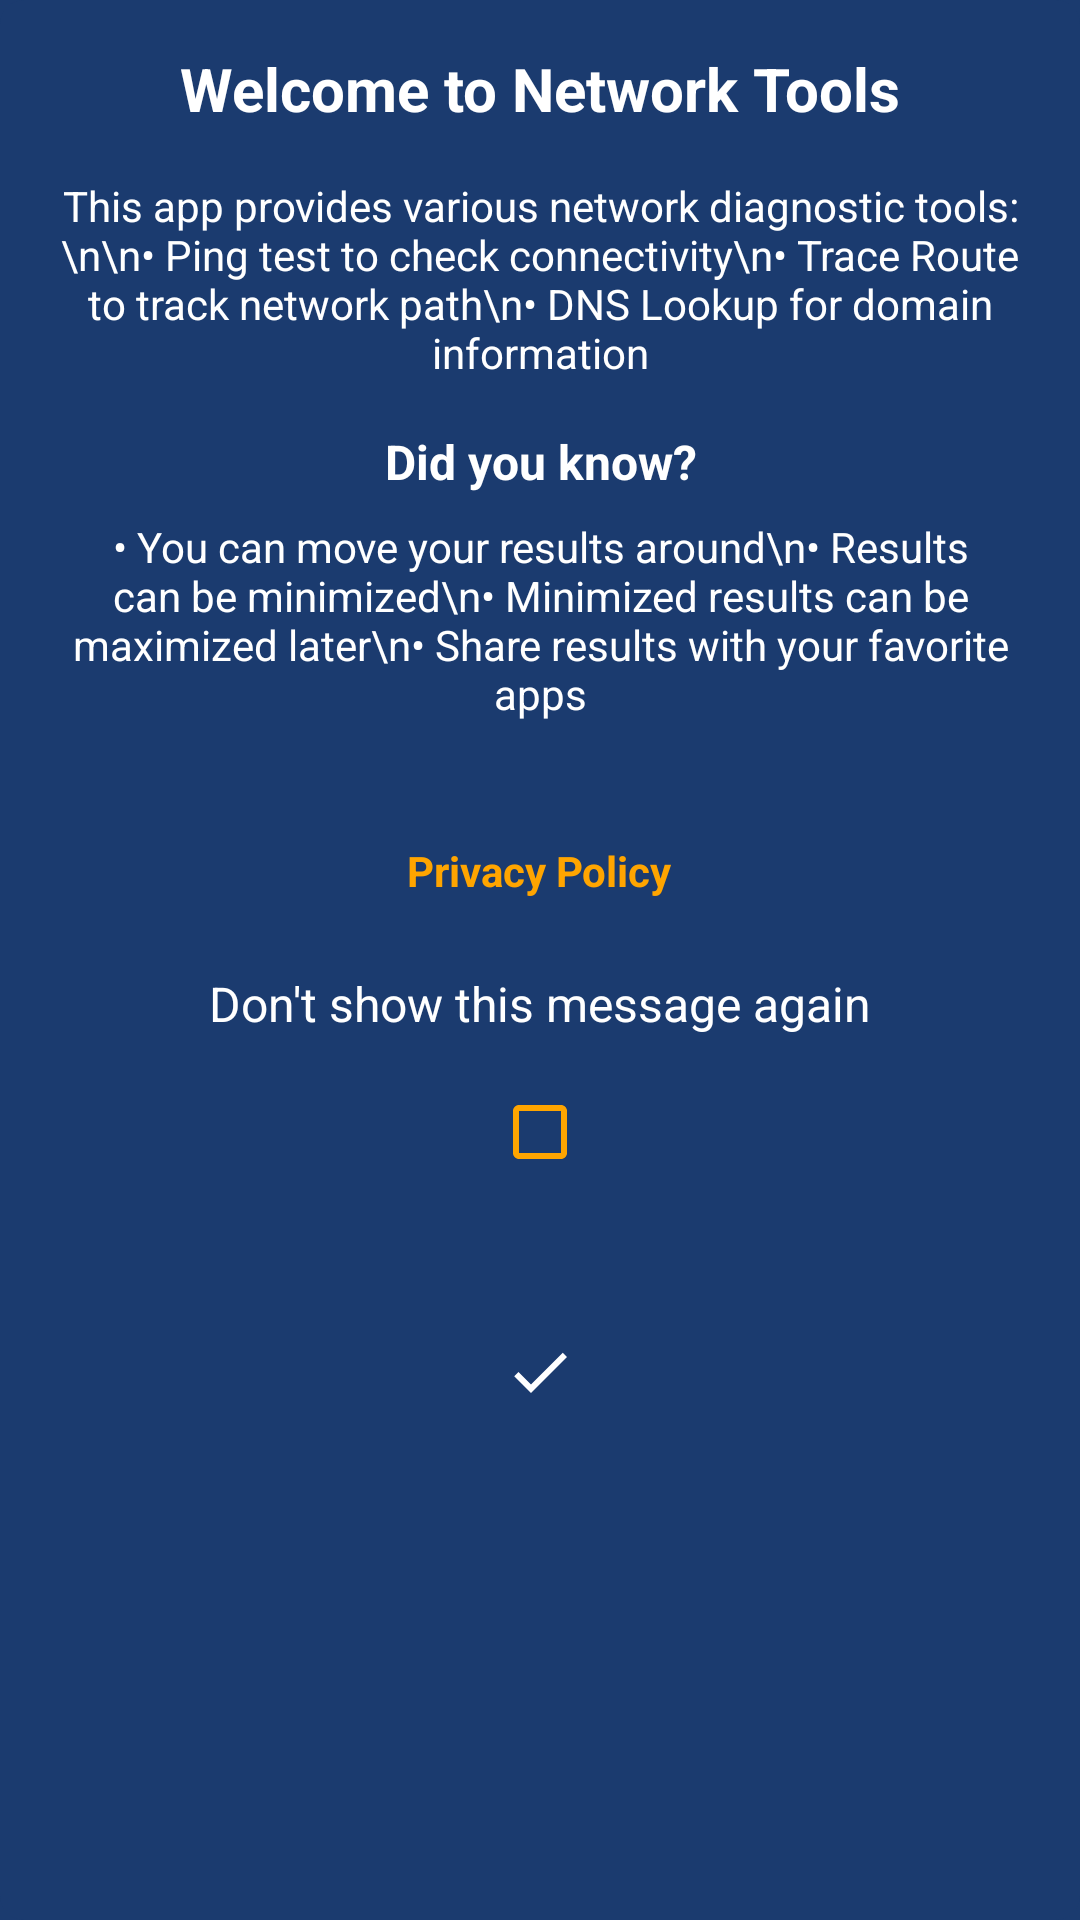

Where icons sit on this 1080 x 1920 app screen, as (x1, y1, x2, y2):
OK: (514, 1353, 567, 1393)
